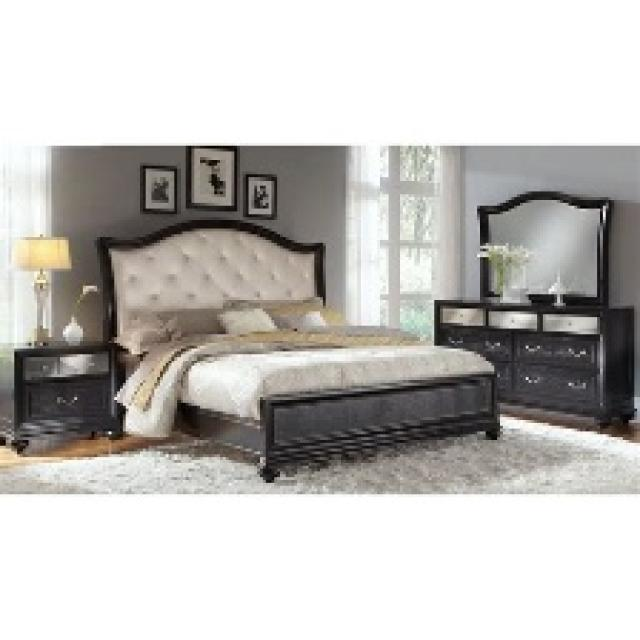Bed: (94, 217, 500, 483)
